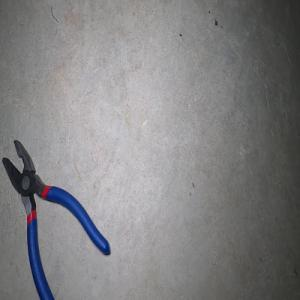Pliers: (1, 138, 110, 300)
